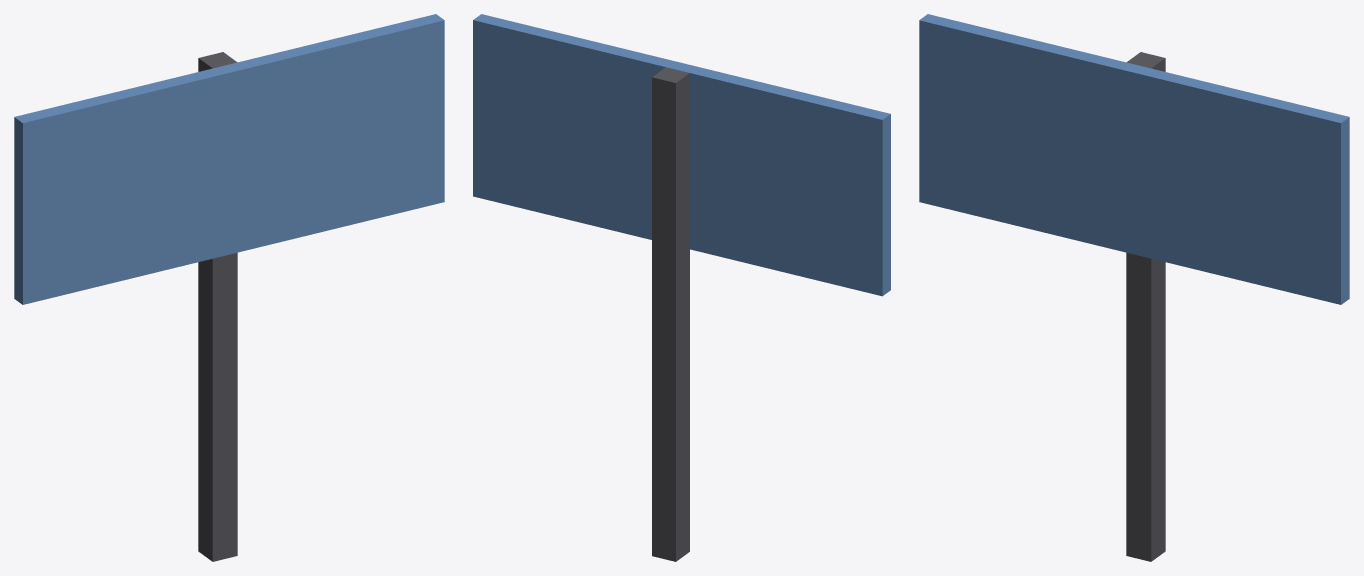
Rendered from placa_atracadouro.glb.
The picture shows the model from 3 angles, left to right: view 1: azimuth 30°, elevation 25°; view 2: azimuth 150°, elevation 25°; view 3: azimuth 330°, elevation 25°; orthographic projection. The views are drawn at different scales.
Visible parts, largest first — view 1: Malha_0; view 2: Malha_0; view 3: Malha_0.
Boxes of the visible parts, x1,y1,x2,y2 form: Malha_0: [14, 14, 444, 561]; Malha_0: [473, 14, 890, 561]; Malha_0: [919, 14, 1349, 561].
Bounding box in the file's own units: 1.7 × 1.9 × 0.16.
